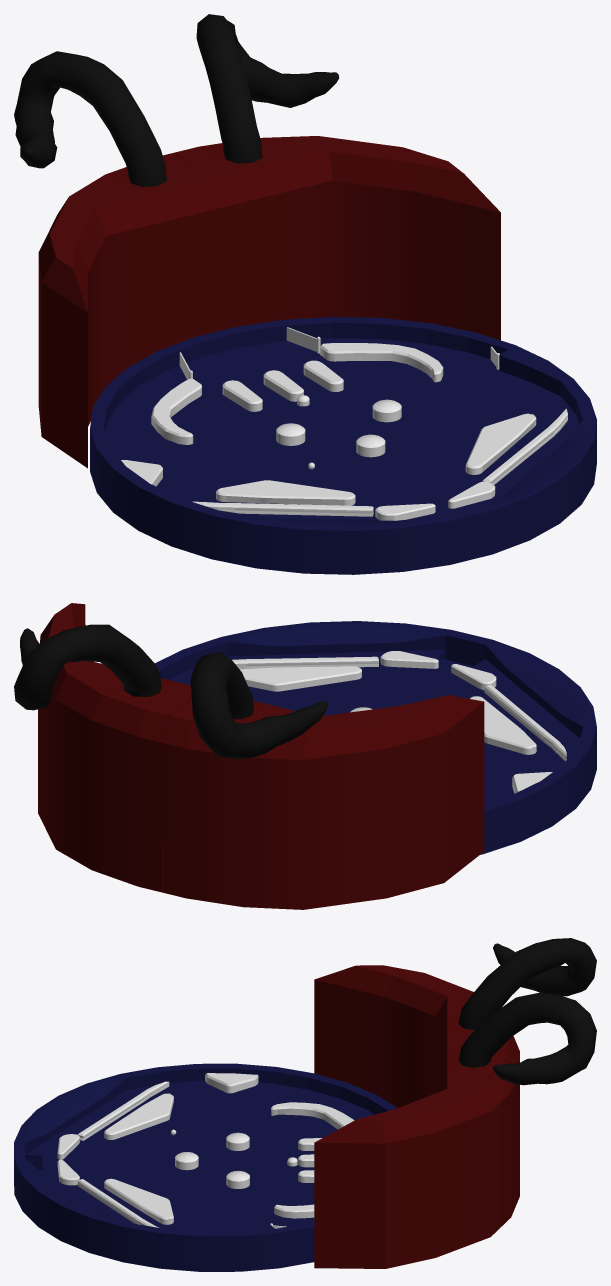
The model's file is PinballMachine009.FBX.
3 renders of one model, top to bottom at view 1: azimuth 30°, elevation 25°; view 2: azimuth 150°, elevation 25°; view 3: azimuth 270°, elevation 25°, orthographic. The views are drawn at different scales.
Parts seen in each view (by area): view 1: ScoreBoard, Pinball_Machine, Bouncer_Links, Top_Guide_Right, Bouncer_Rechts, Flipper_Extensie_Links, Top_Guide_Left, Flipper_Extensie_Rechts, Flipper_Links, Top_Divider_001, Top_Divider_003, Top_Divider_002 (+1 smaller); view 2: ScoreBoard, Pinball_Machine, Bouncer_Rechts, Bouncer_Links, Flipper_Extensie_Rechts, Flipper_Extensie_Links, Flipper_Rechts, Flipper_Links, Triangle_Left; view 3: ScoreBoard, Pinball_Machine, Bouncer_Links, Bouncer_Rechts, Top_Guide_Left, Flipper_Extensie_Links, Triangle_Left, Flipper_Extensie_Rechts, Top_Guide_Right.
Boxes of the visible parts, left/top/right/bottom form: ScoreBoard: left=14, top=14, right=500, bottom=468; Pinball_Machine: left=90, top=316, right=596, bottom=574; Bouncer_Links: left=216, top=480, right=355, bottom=505; Top_Guide_Right: left=320, top=343, right=443, bottom=382; Bouncer_Rechts: left=465, top=413, right=536, bottom=474; Flipper_Extensie_Links: left=192, top=501, right=373, bottom=516; Top_Guide_Left: left=151, top=378, right=201, bottom=444; Flipper_Extensie_Rechts: left=482, top=408, right=567, bottom=484; Flipper_Links: left=375, top=503, right=435, bottom=520; Top_Divider_001: left=222, top=380, right=262, bottom=411; Top_Divider_003: left=303, top=360, right=343, bottom=391; Top_Divider_002: left=263, top=370, right=303, bottom=401; ScoreBoard: left=14, top=603, right=484, bottom=909; Pinball_Machine: left=155, top=621, right=596, bottom=854; Bouncer_Rechts: left=240, top=666, right=361, bottom=691; Bouncer_Links: left=469, top=696, right=536, bottom=754; Flipper_Extensie_Rechts: left=232, top=656, right=378, bottom=669; Flipper_Extensie_Links: left=484, top=684, right=566, bottom=761; Flipper_Rechts: left=380, top=651, right=438, bottom=668; Flipper_Links: left=451, top=664, right=496, bottom=690; Triangle_Left: left=512, top=772, right=552, bottom=793; ScoreBoard: left=314, top=938, right=596, bottom=1268; Pinball_Machine: left=14, top=1063, right=397, bottom=1271; Bouncer_Links: left=104, top=1093, right=173, bottom=1139; Bouncer_Rechts: left=104, top=1178, right=173, bottom=1224; Top_Guide_Left: left=271, top=1102, right=354, bottom=1129; Flipper_Extensie_Links: left=77, top=1081, right=169, bottom=1140; Triangle_Left: left=205, top=1073, right=258, bottom=1093; Flipper_Extensie_Rechts: left=77, top=1179, right=158, bottom=1227; Top_Guide_Right: left=274, top=1204, right=314, bottom=1218.
Bounding box in the file's own units: 295 × 177 × 421.
